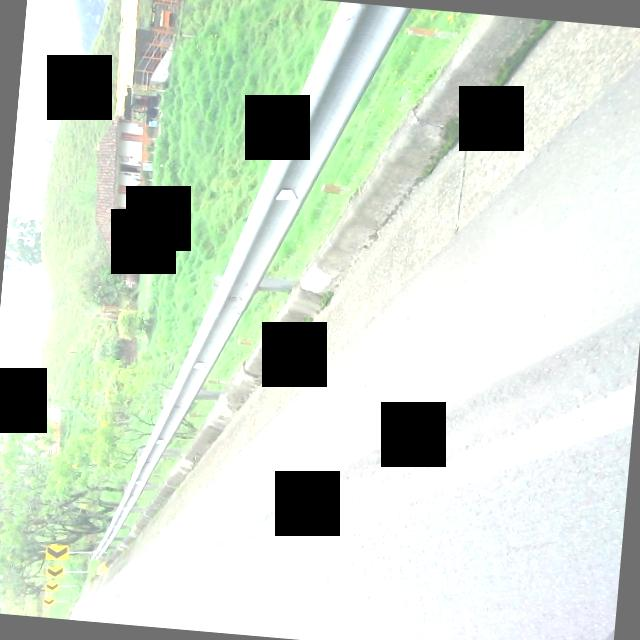DITCH: (68, 0, 640, 640), (78, 0, 640, 640)
